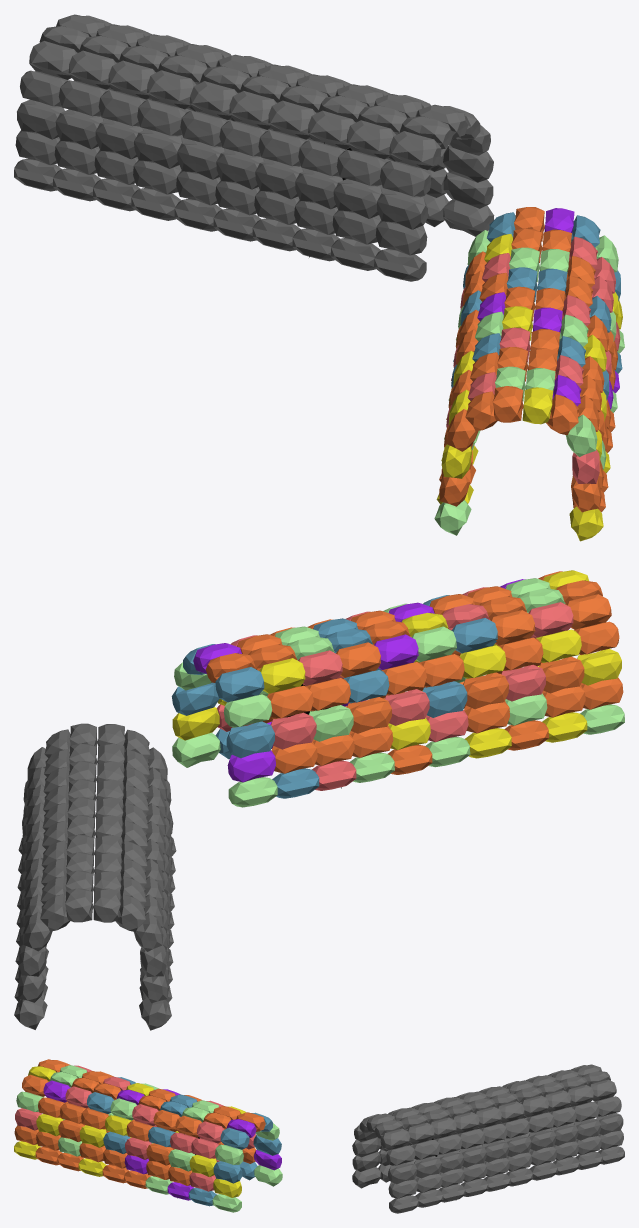
Rendered from TunnelsLevel2.fbx.
The picture shows the model from 3 angles, top to bottom: view 1: azimuth 30°, elevation 25°; view 2: azimuth 150°, elevation 25°; view 3: azimuth 270°, elevation 25°; orthographic projection. The views are drawn at different scales.
Parts seen in each view (by area): view 1: Tunnels; view 2: Tunnels; view 3: Tunnels.
Boxes of the visible parts, left/top/right/bottom form: Tunnels: left=14, top=14, right=624, bottom=541; Tunnels: left=14, top=570, right=624, bottom=1030; Tunnels: left=14, top=1059, right=624, bottom=1213.
Bounding box in the file's own units: 1048 × 427 × 2801.
